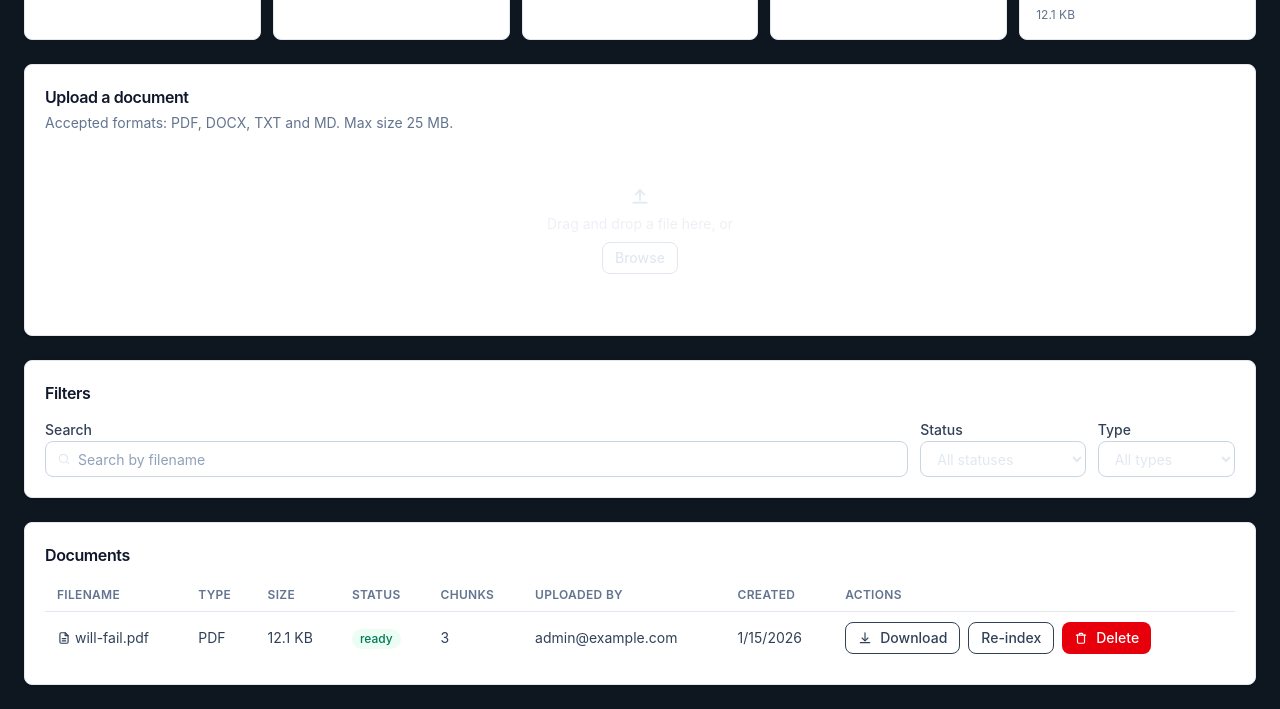
KnowledgeBase screen › download (AC-027) › surfaces a readable row-level error instead of a silent no-op on failure
(page scrolled)
Click the button "Download" at (903, 638), box [845,622,960,654]
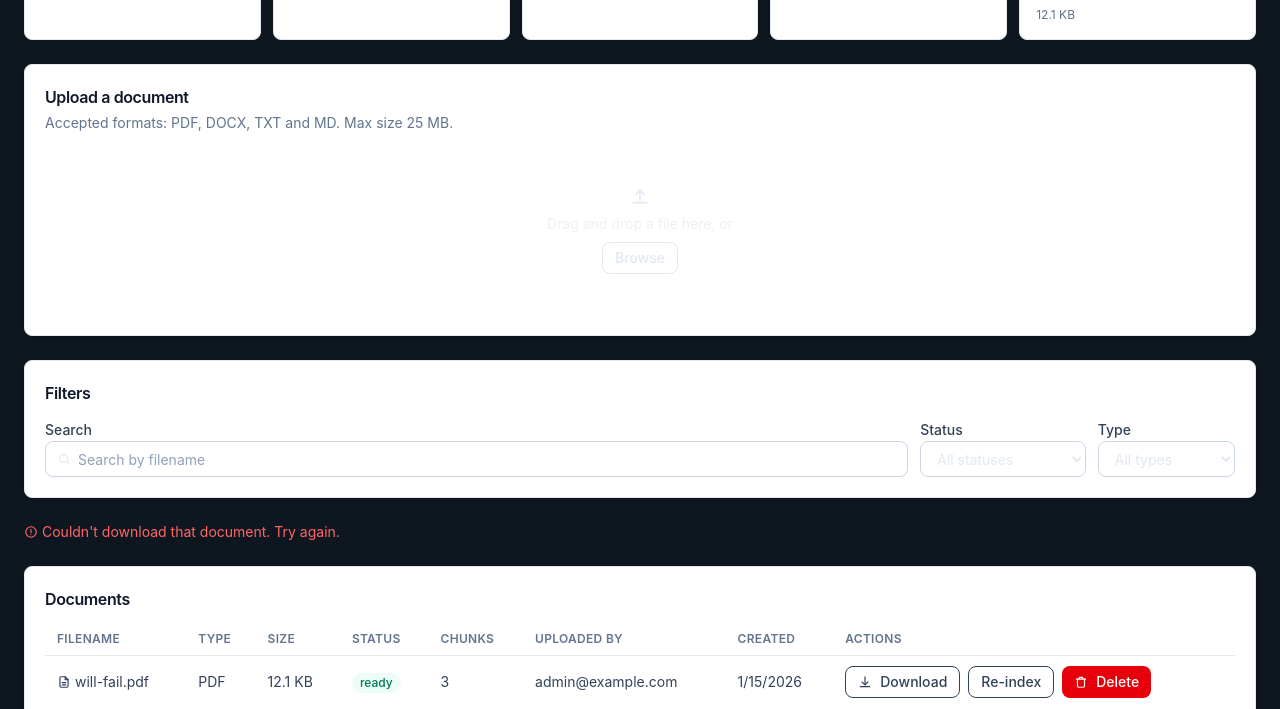
Expected: the text "Couldn't download that document. Try again." is shown, [24,523,340,540]
